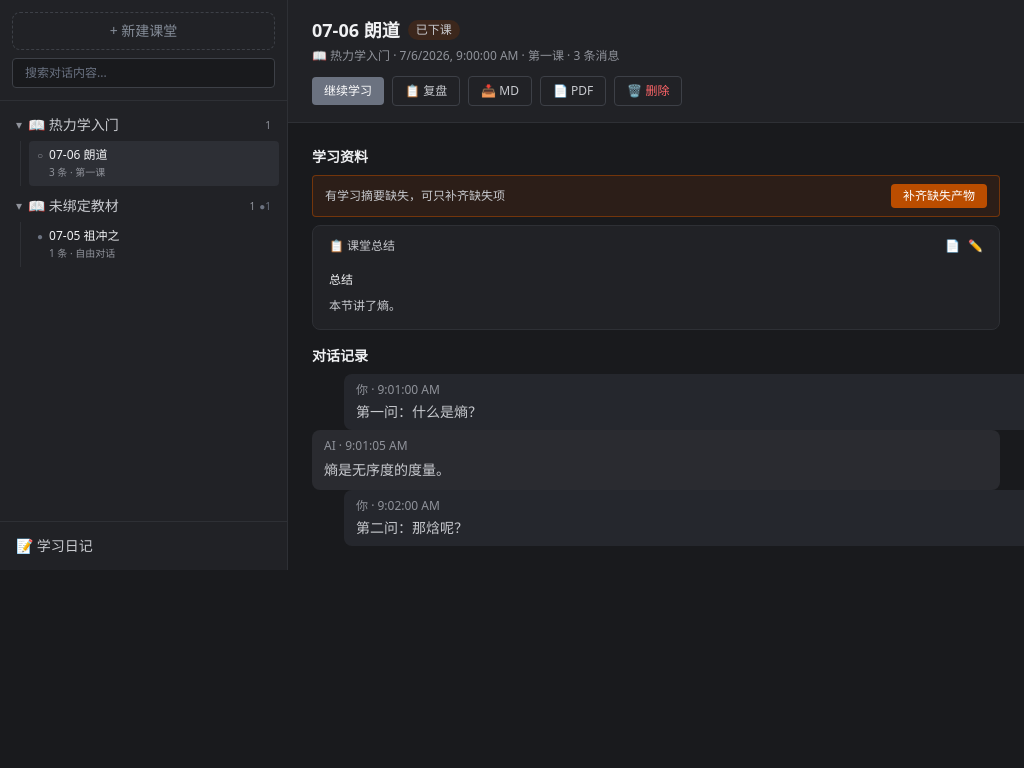
Test: HistoryView — search › searches messages, jumps to a result and clears the query
The width and height of the screenshot is (1024, 768).
Expected: the text "第一问：什么是熵？" is shown, [356, 402, 482, 421]
Type "另一个" into the field with placeholder "搜索对话内容...".
click(144, 73); type("另一个")  # box [12, 58, 275, 88]
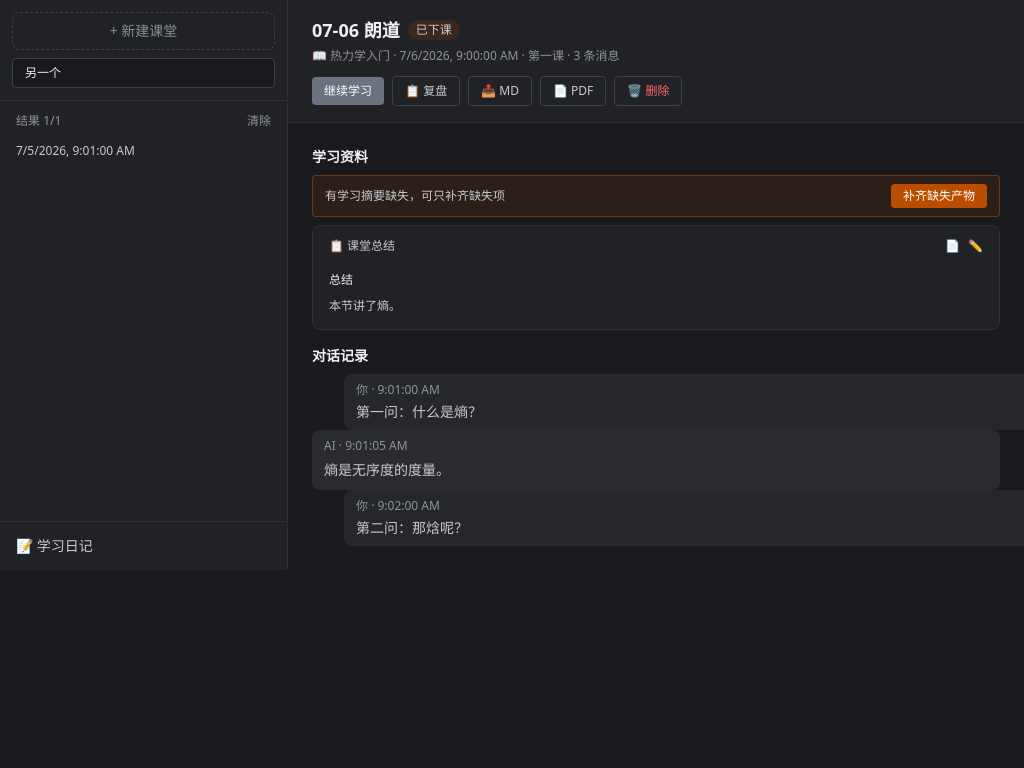
Expected: the text "结果 1/1" is shown, [16, 113, 61, 129]
Click the button titled "另一个课堂的问题".
click(75, 150)  # box [8, 137, 279, 165]
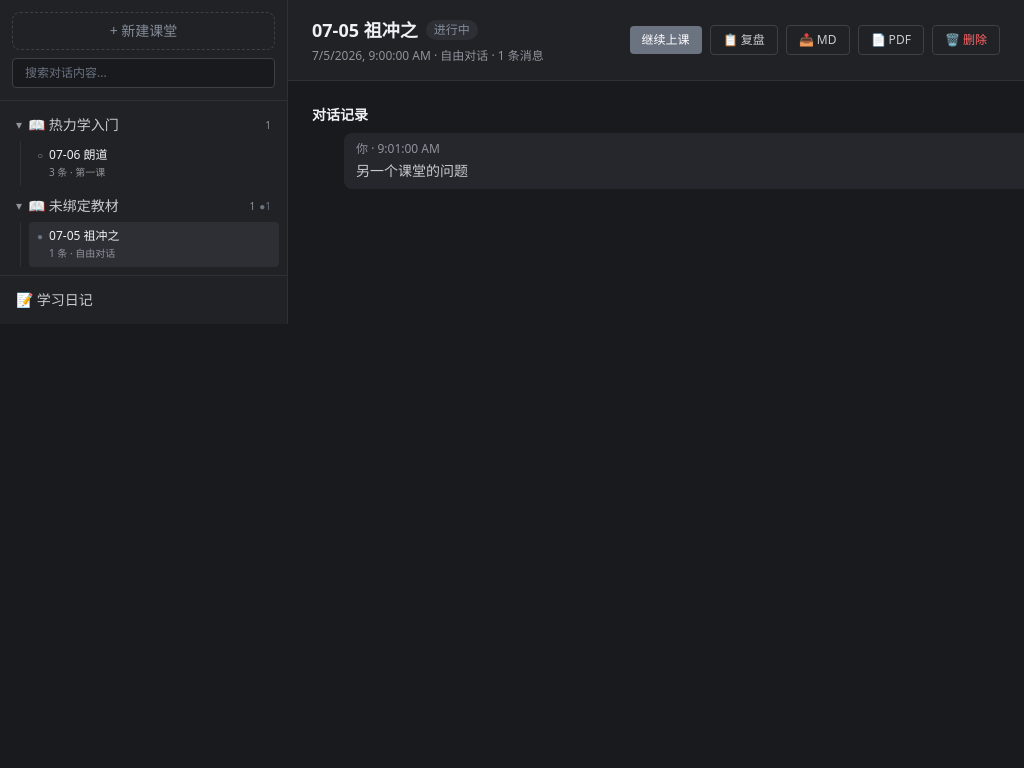
Expected: the text "另一个课堂的问题" is shown, [356, 161, 468, 180]
